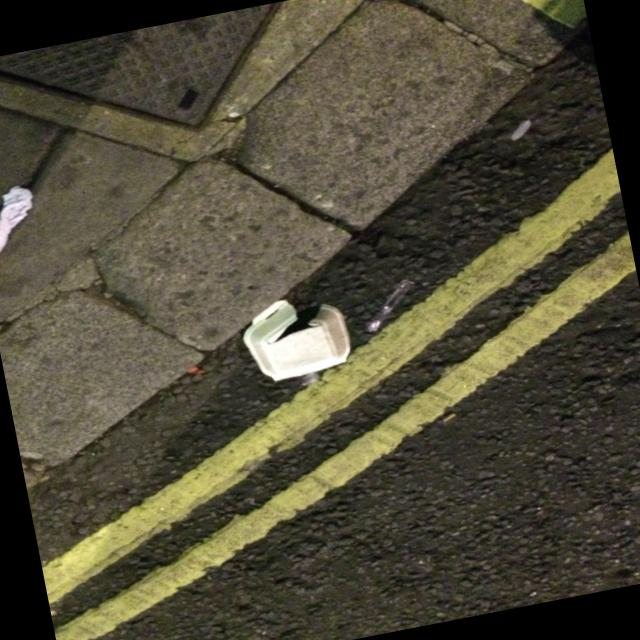less trash: (244, 301, 350, 381)
